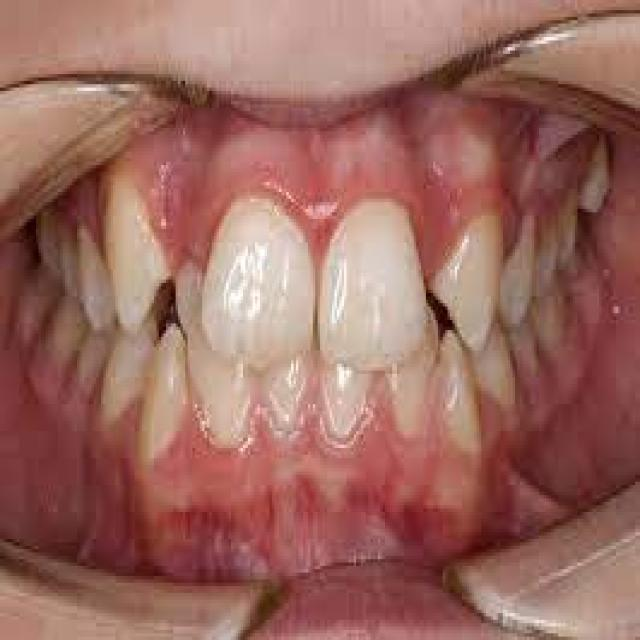tooth: (212, 219, 313, 357), (328, 222, 423, 354), (443, 236, 500, 340), (188, 364, 255, 444), (115, 212, 163, 317), (438, 340, 474, 472), (147, 340, 180, 462), (322, 370, 373, 438), (265, 367, 308, 431), (106, 340, 142, 411), (395, 374, 428, 434), (84, 253, 111, 323), (481, 350, 510, 414), (508, 246, 534, 317), (53, 303, 79, 371), (560, 202, 580, 263), (515, 330, 539, 377), (180, 263, 198, 323), (24, 273, 46, 320), (39, 219, 60, 263), (544, 303, 565, 347), (590, 158, 608, 209), (82, 337, 98, 391), (68, 236, 80, 286), (539, 250, 553, 286)
